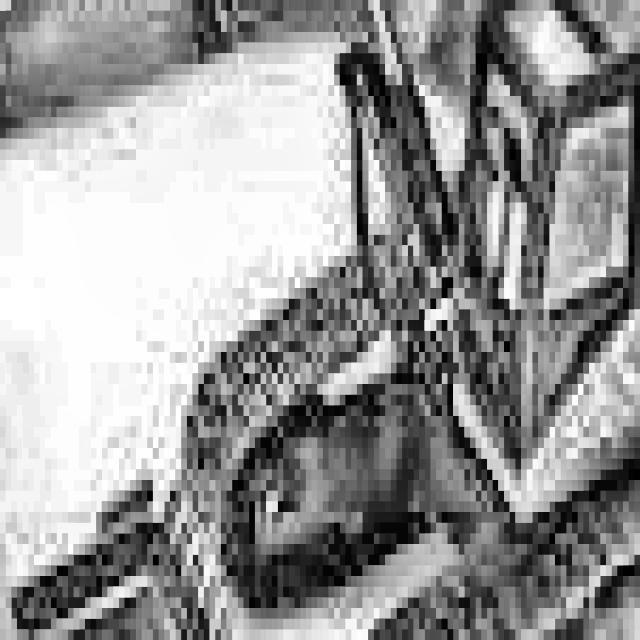excavator: (158, 0, 640, 640)
